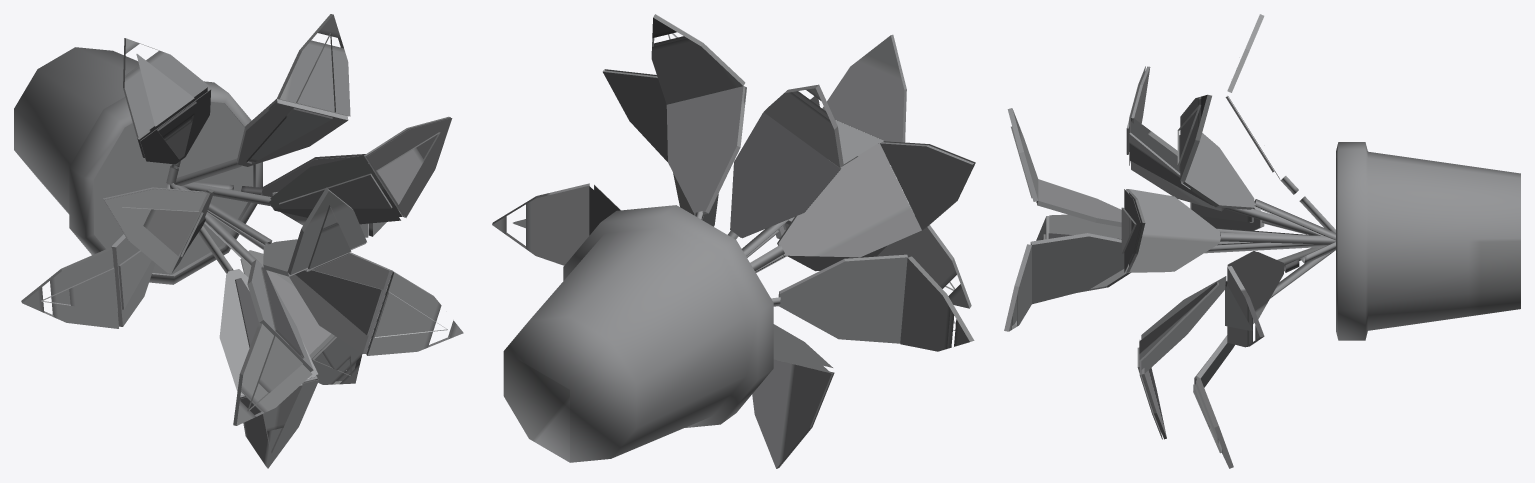
3 views of the same model, side by side, from view 1: azimuth 30°, elevation 25°; view 2: azimuth 150°, elevation 25°; view 3: azimuth 270°, elevation 25° (orthographic). The views are drawn at different scales.
Size of the model in its own units: 0.9243 by 0.8627 by 1.05.
